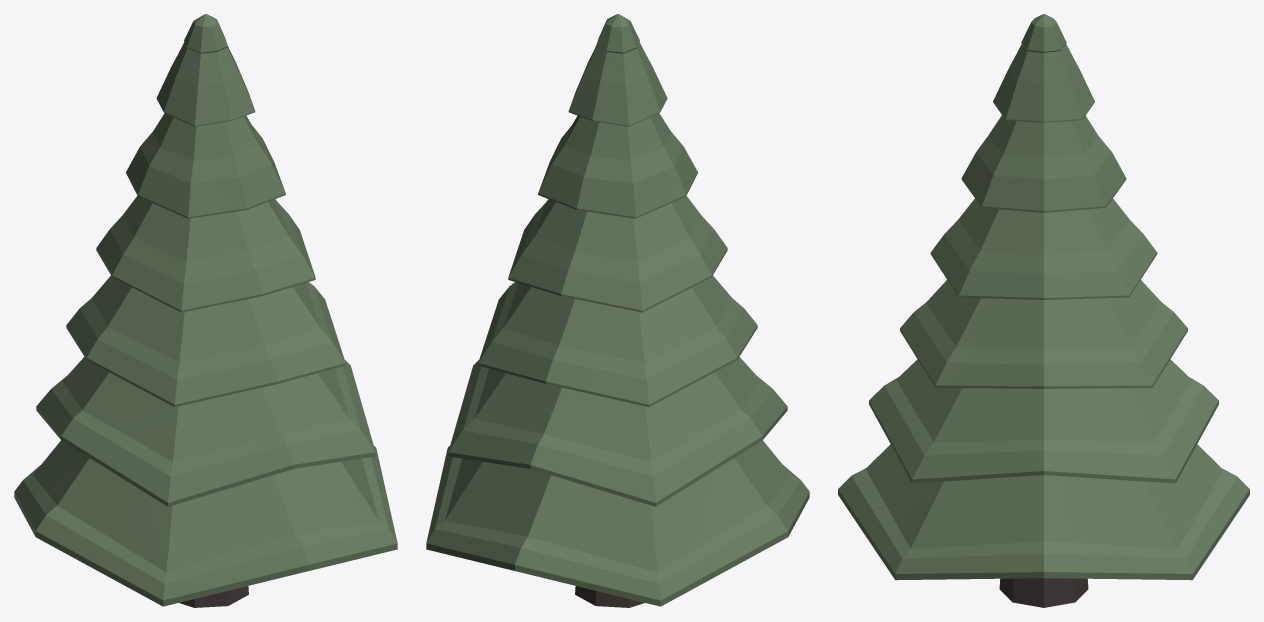
File: SM_tree3.fbx
3 views of the same model, side by side, from view 1: azimuth 30°, elevation 25°; view 2: azimuth 150°, elevation 25°; view 3: azimuth 270°, elevation 25° (orthographic).
Parts seen in each view (by area): view 1: SM_tree3; view 2: SM_tree3; view 3: SM_tree3.
Boxes of the visible parts, <box> form: SM_tree3: <box>14,14,397,607</box>; SM_tree3: <box>426,14,809,607</box>; SM_tree3: <box>838,14,1249,607</box>.
Size of the model in its own units: 447 by 721 by 468.
1 material, 1 textured.
